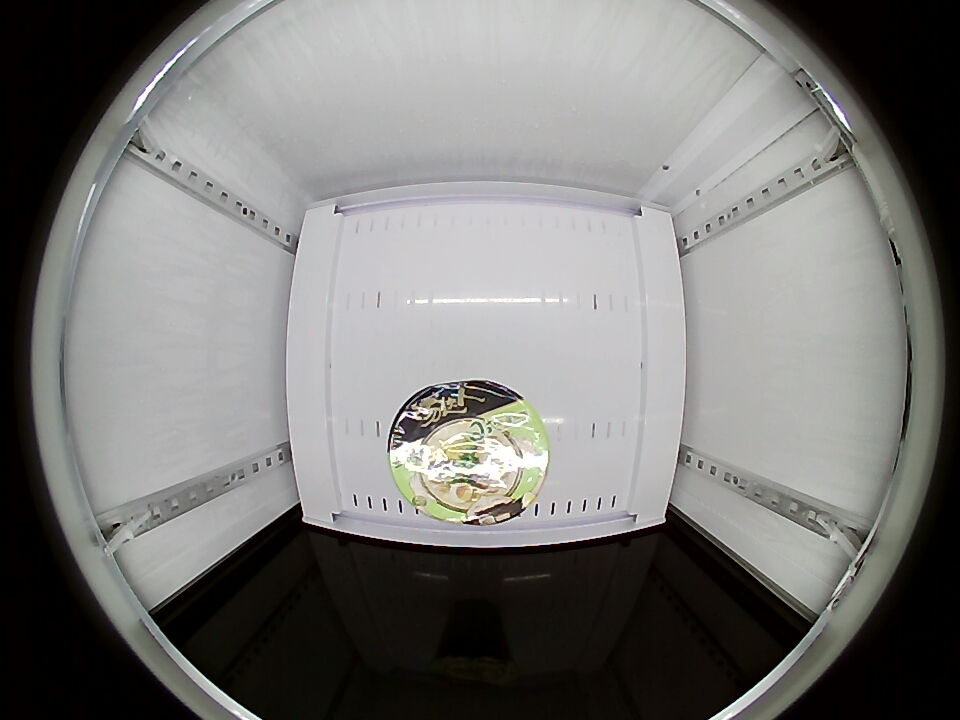tangdaren: (387, 380, 551, 525)
